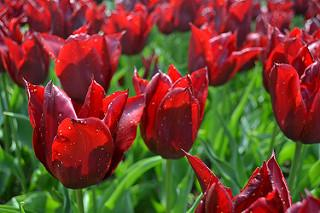tulip: (27, 75, 147, 187), (133, 63, 211, 159), (46, 27, 124, 96), (187, 19, 262, 81), (273, 60, 320, 144)
